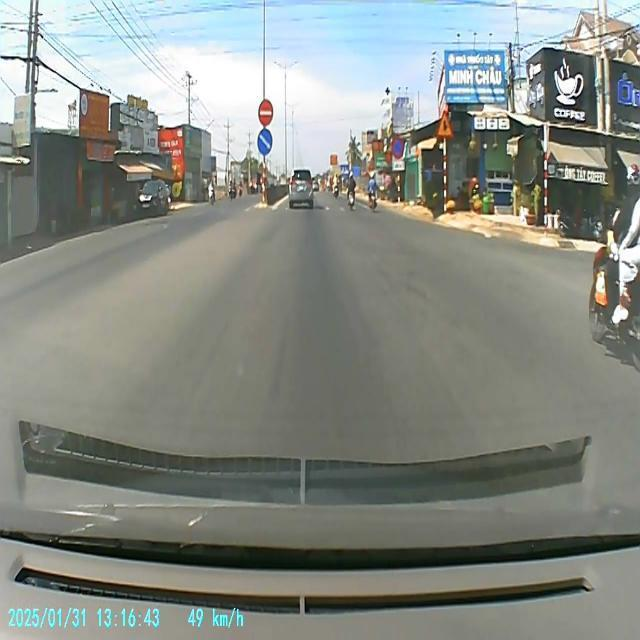102-cam-di-nguoc-chieu: (258, 100, 274, 128)
131a-cam-do-xe: (392, 136, 404, 160)
207-giao-nhau-voi-duong-khong-uu-tien: (435, 110, 453, 138)
302a-huong-phai-di-vong-chuong-ngai-vat-1: (257, 130, 273, 154)
421-ket-thuc-khu-dong-dan-cu: (338, 164, 350, 176)
